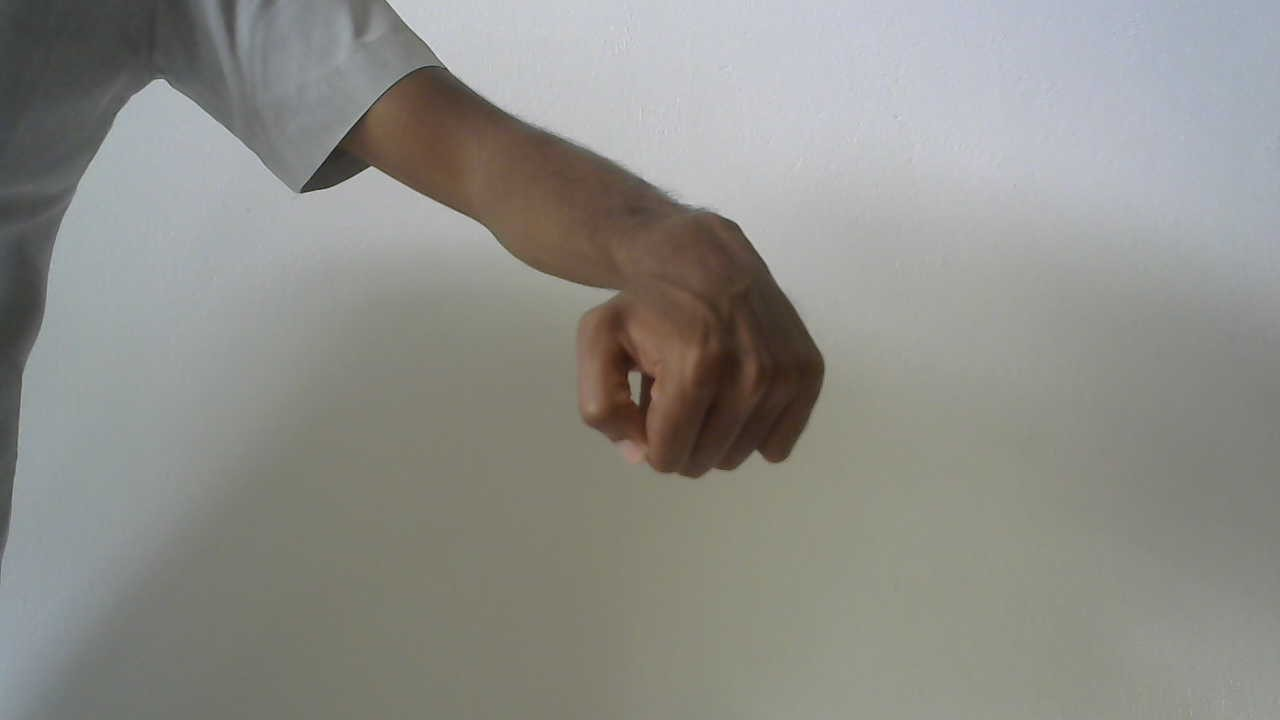yes: (569, 140, 842, 492)
